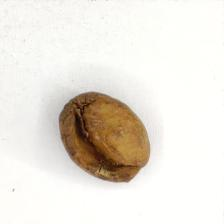NG: (61, 105, 137, 182)
